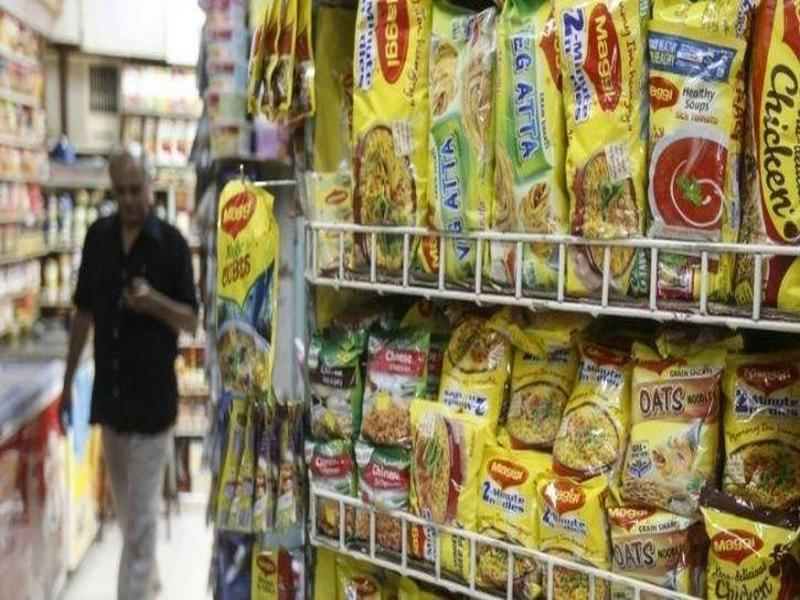maggi-family: (558, 2, 652, 304), (352, 3, 443, 278)
maggi-small: (473, 443, 543, 591), (537, 472, 614, 600)
